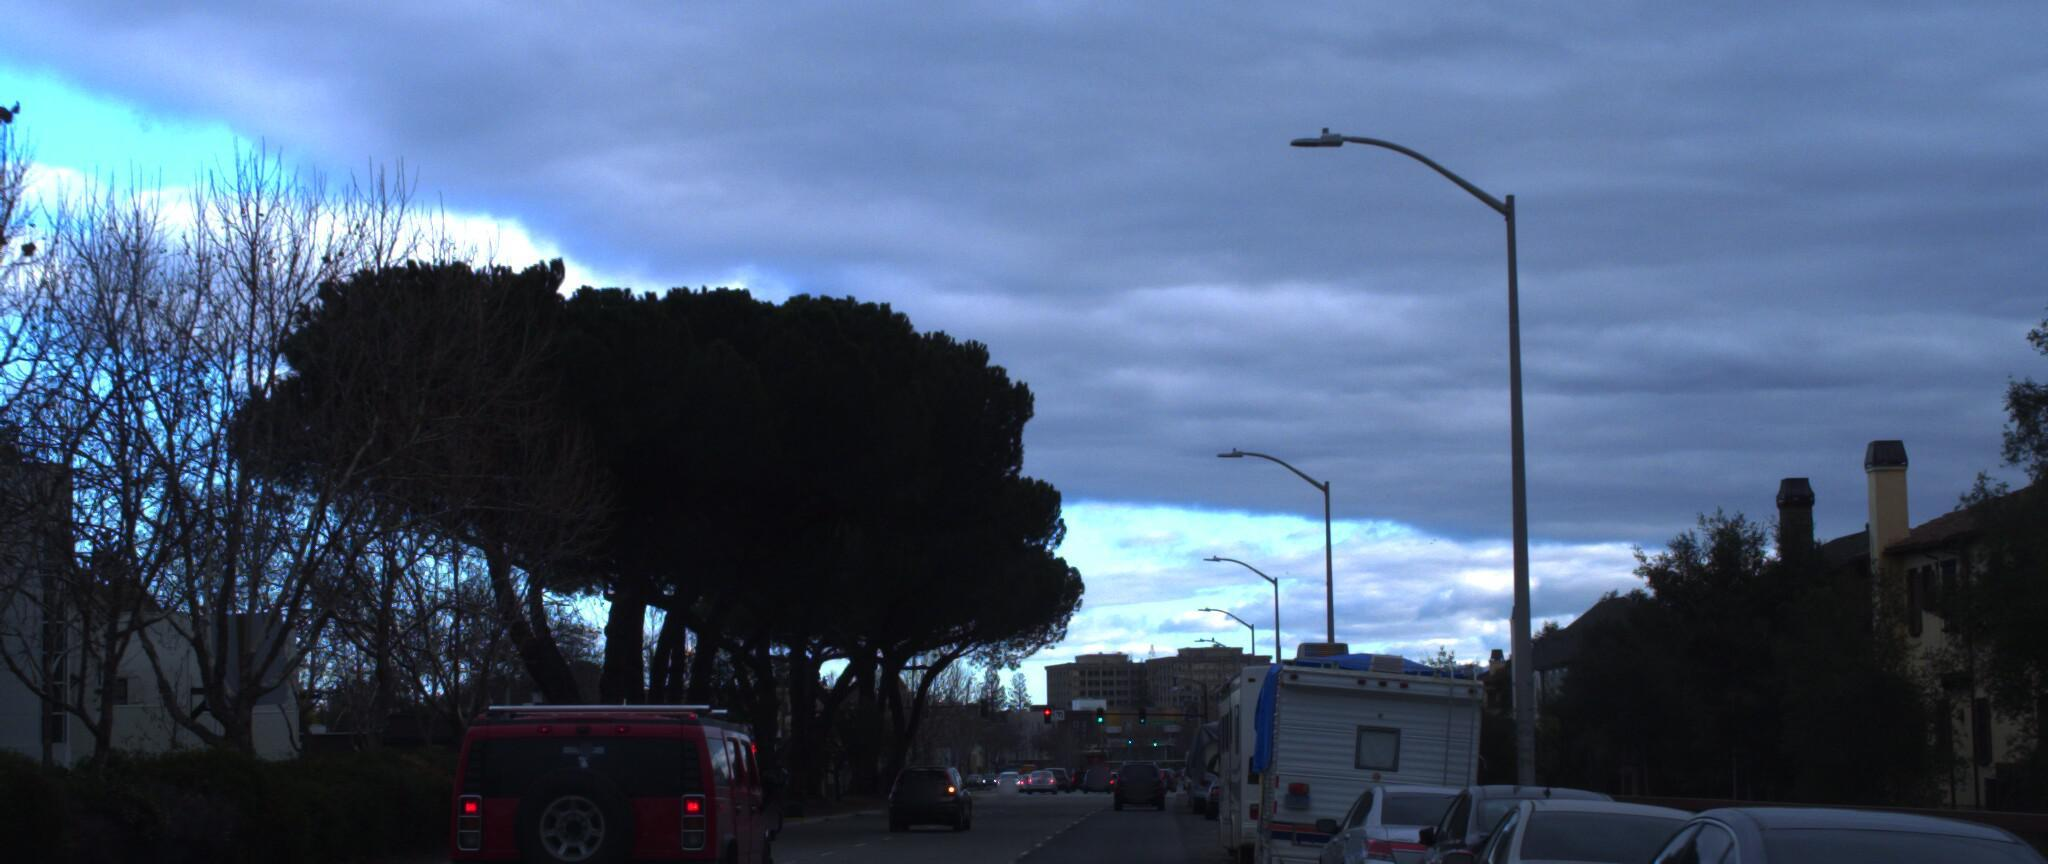car: (432, 694, 793, 864), (1540, 782, 2048, 864), (1432, 782, 1800, 864), (1400, 767, 1668, 864), (1309, 764, 1550, 864), (1810, 813, 2048, 864), (888, 749, 973, 820)
other_vehicle: (1249, 643, 1498, 864), (1213, 651, 1428, 864)
